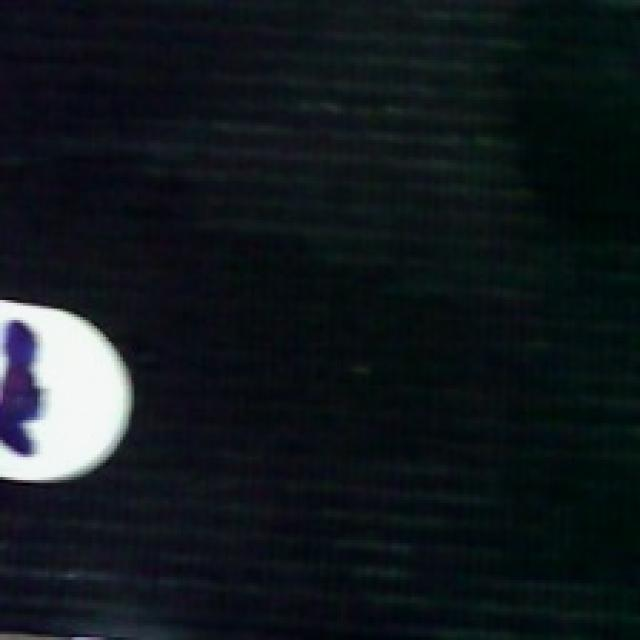defected: (0, 292, 140, 488)
